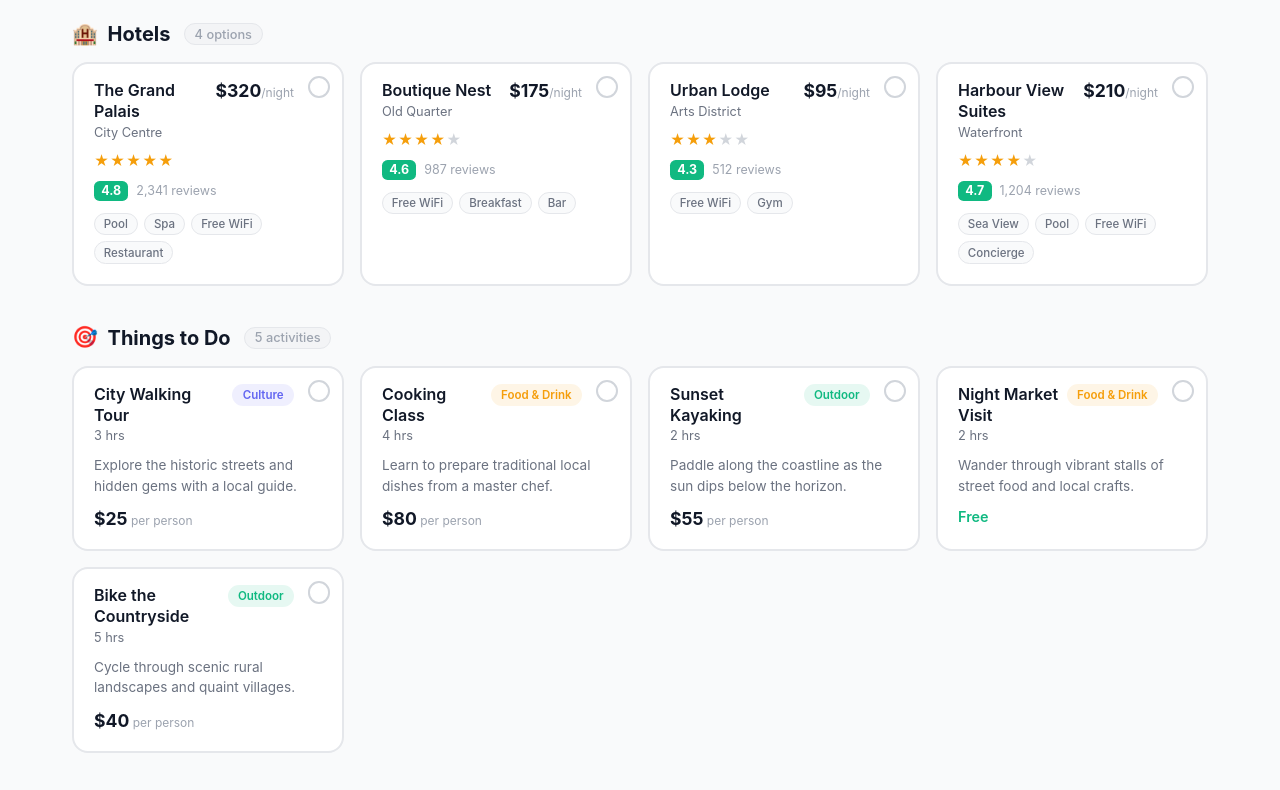
SelectablePlanGrid › pluralizes the selection summary across categories
Click the checkbox labelled "The Grand Palais" at (208, 174), box [72,62,344,286]
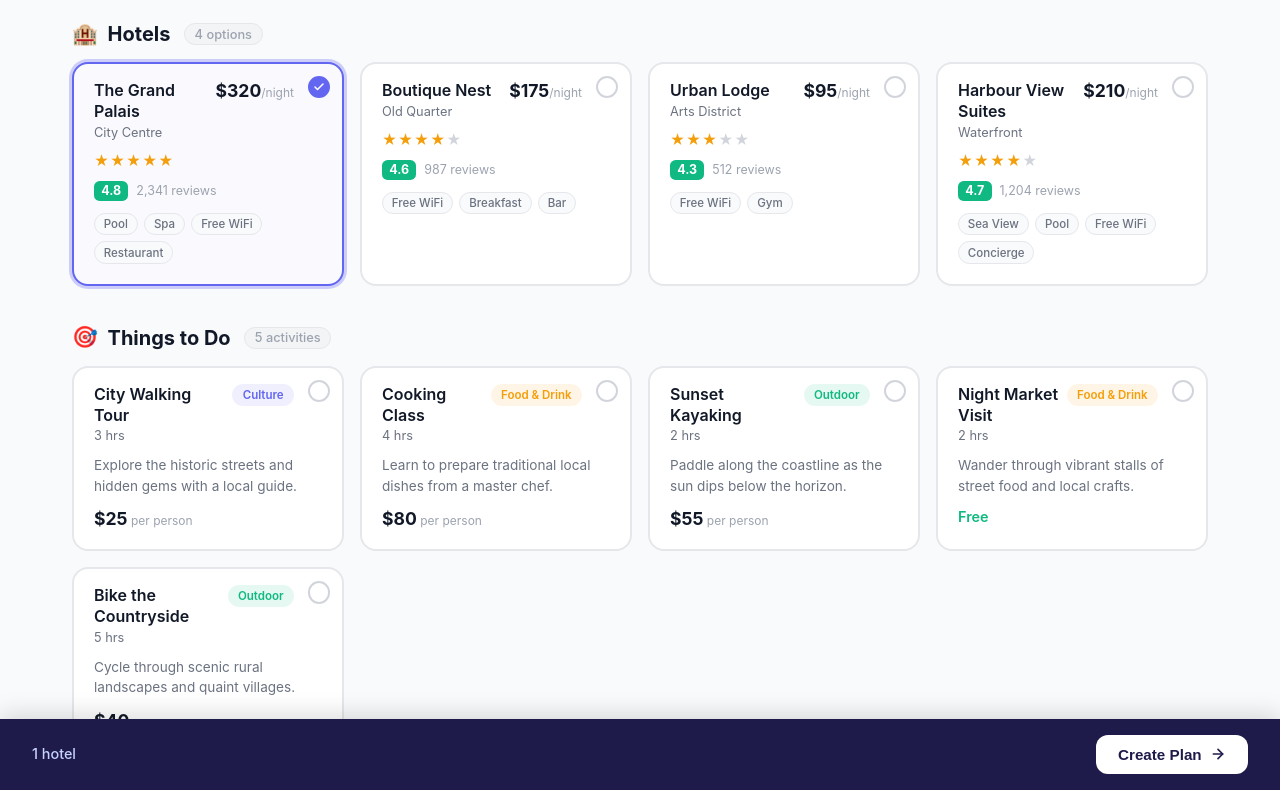
Click the checkbox labelled "Boutique Nest" at (496, 174), box [360,62,632,286]
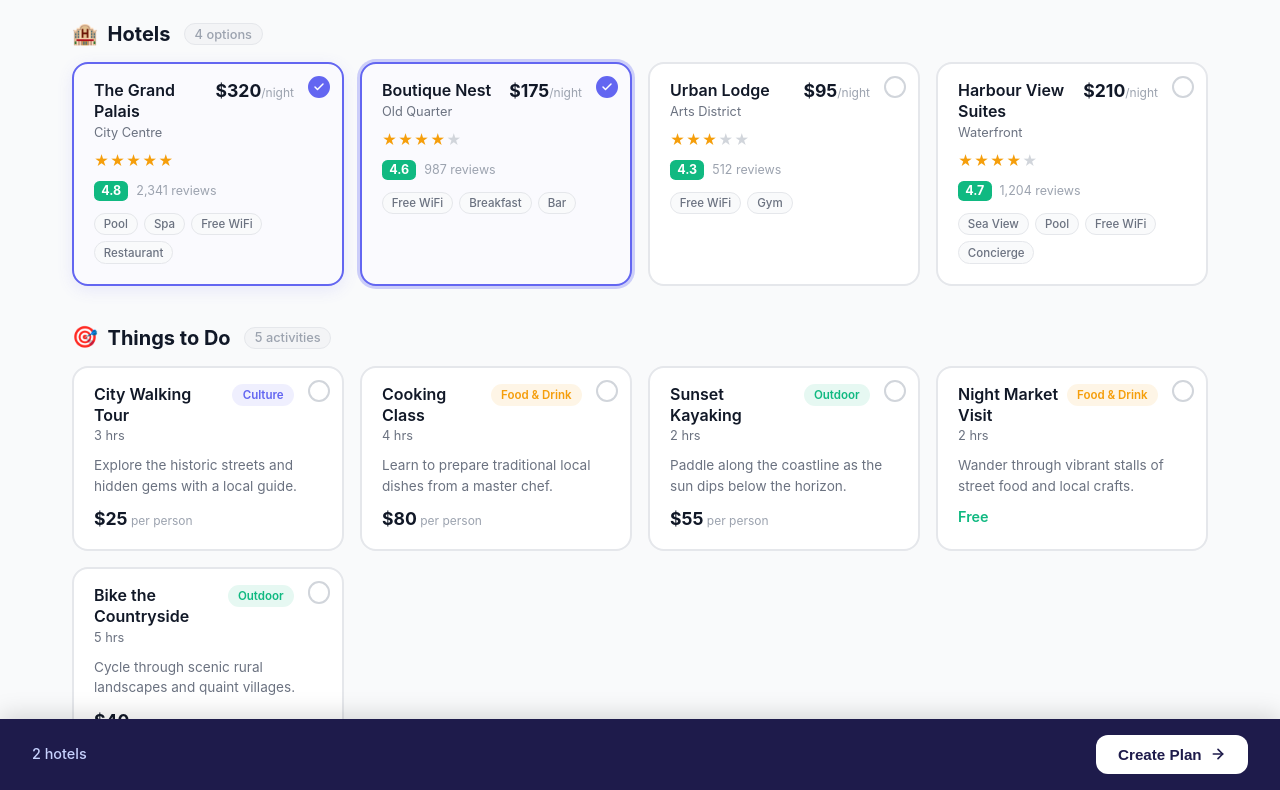
Click the checkbox labelled "City Walking Tour" at (208, 458), box [72,366,344,551]
(page scrolled)
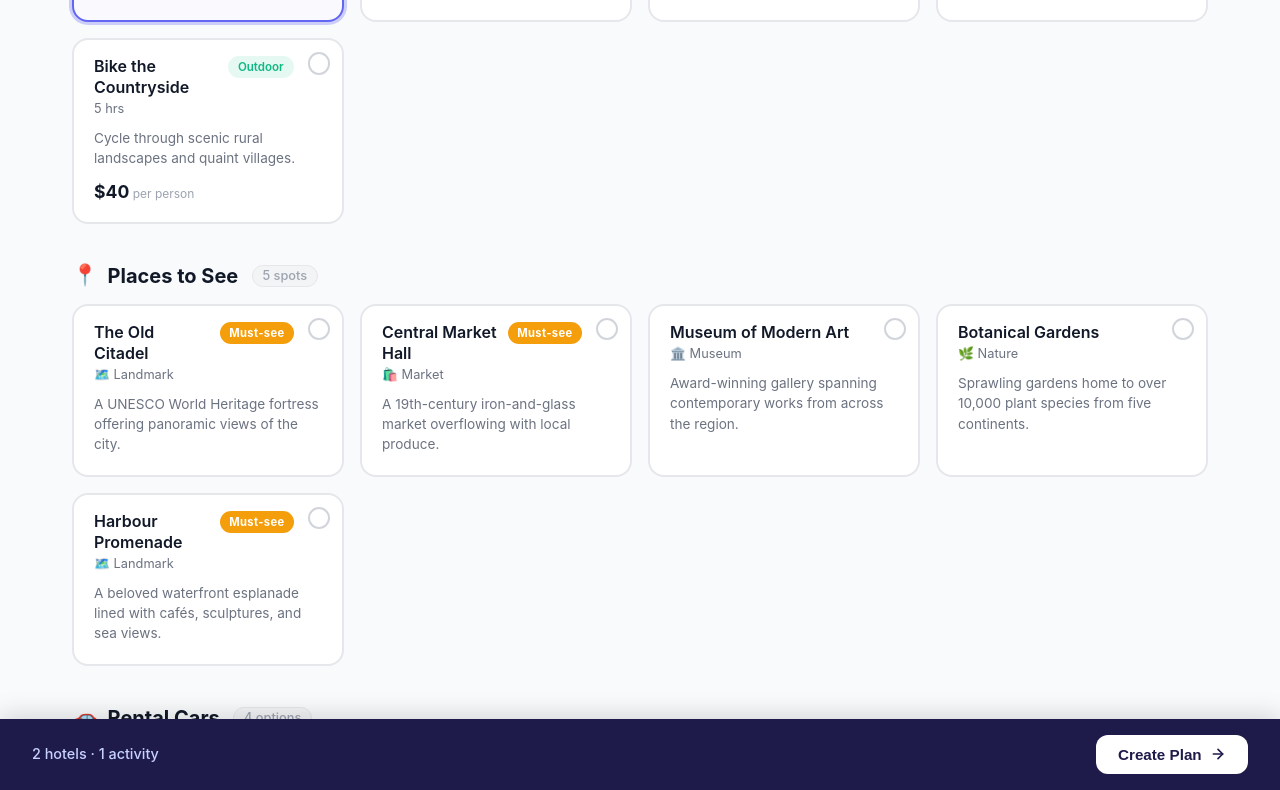
Click the checkbox labelled "The Old Citadel" at (208, 390), box [72,304,344,477]
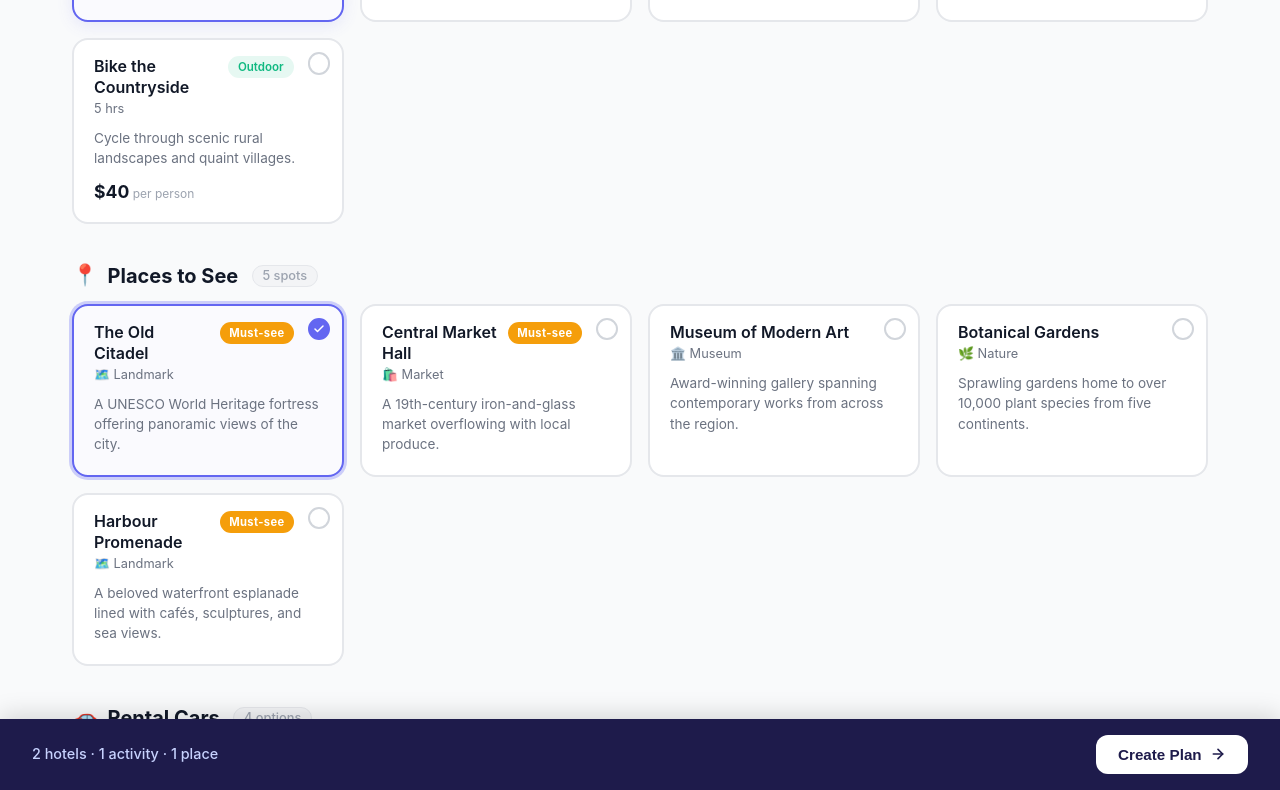
Expected: the text "2 hotels · 1 activity · 1 place" is shown, [32,745,218,762]
